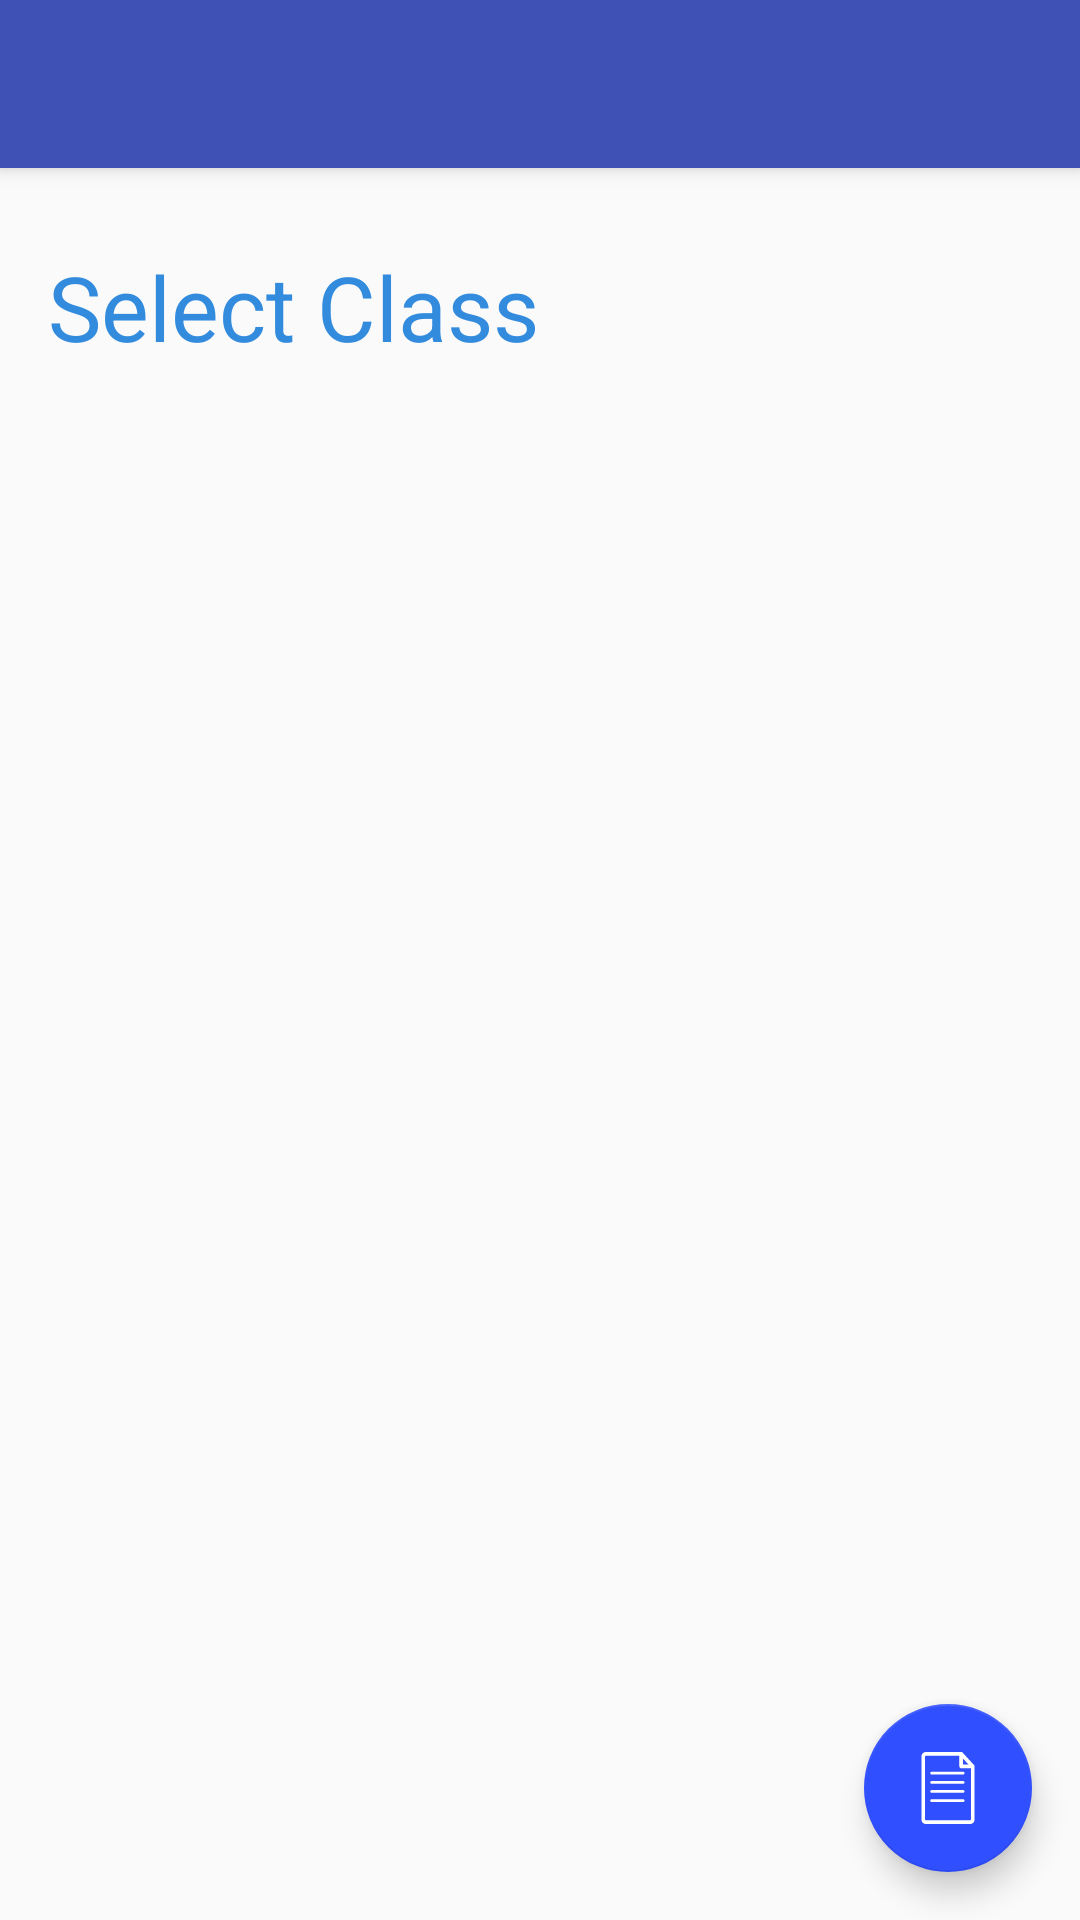

Icon click points for this 1080w x 1920h phone screenshot, format (x,y):
sheet: (948,1788)
